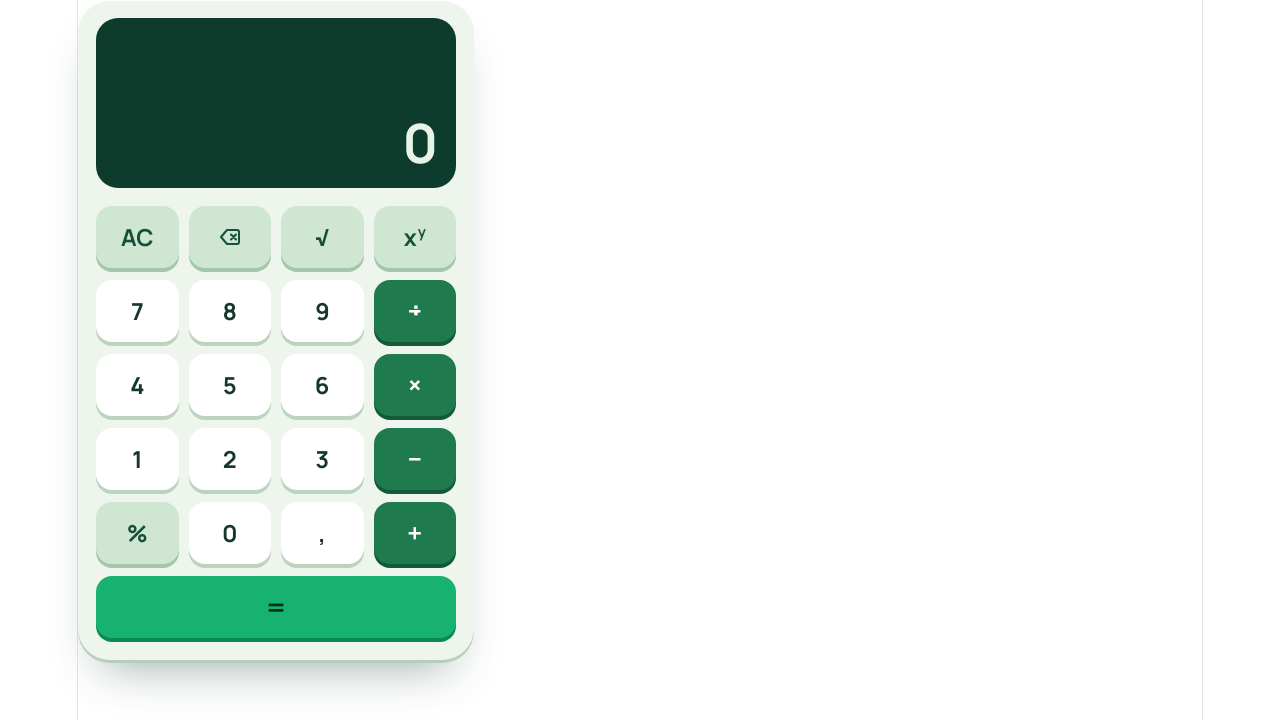
Test: <Calculator /> › pide el resultado al servicio y lo muestra
Click the button "2" at (230, 459), box x1=188 y1=428 x2=271 y2=490
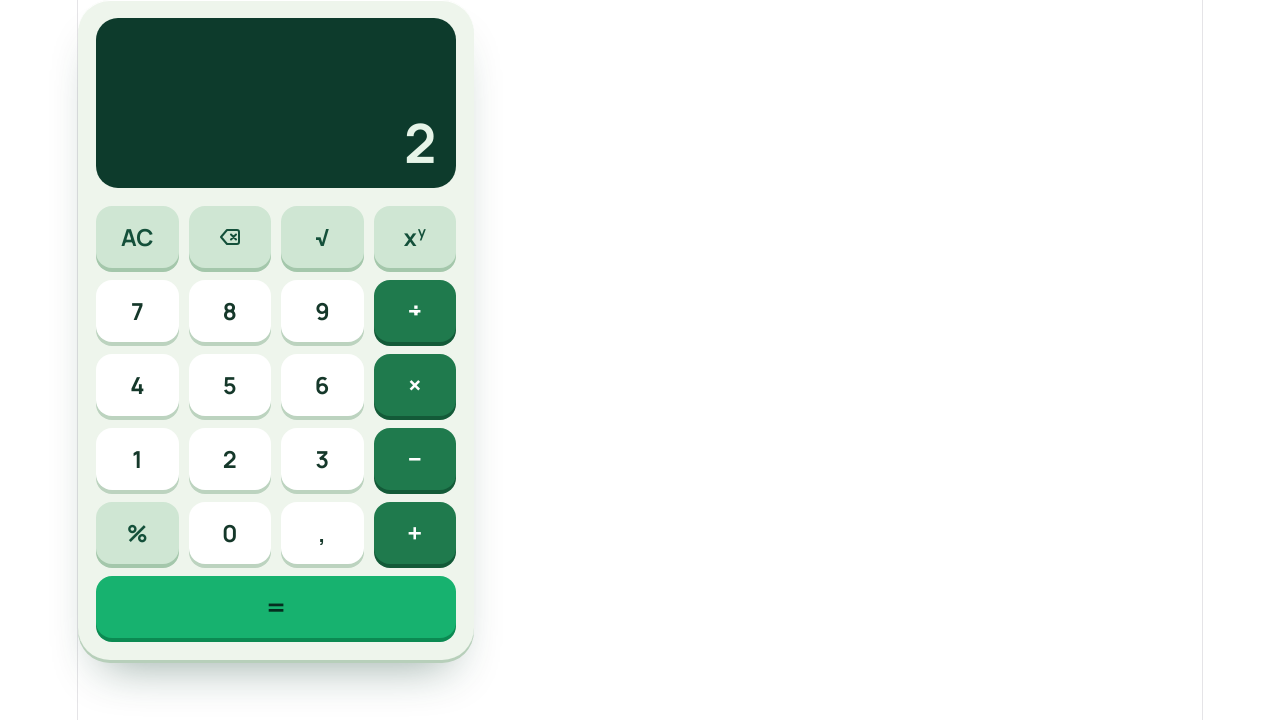
Click the button named "Sumar" at (415, 533), box x1=374 y1=502 x2=456 y2=564
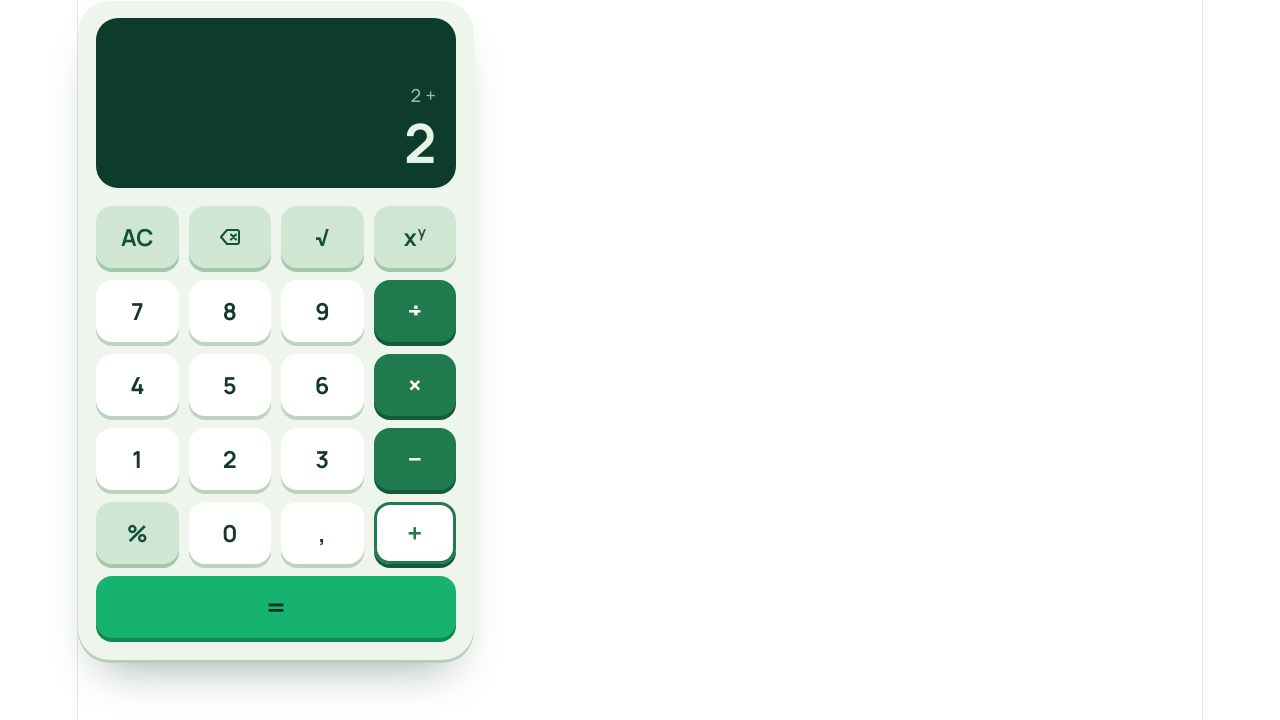
Click the button "3" at (322, 459), box x1=281 y1=428 x2=364 y2=490
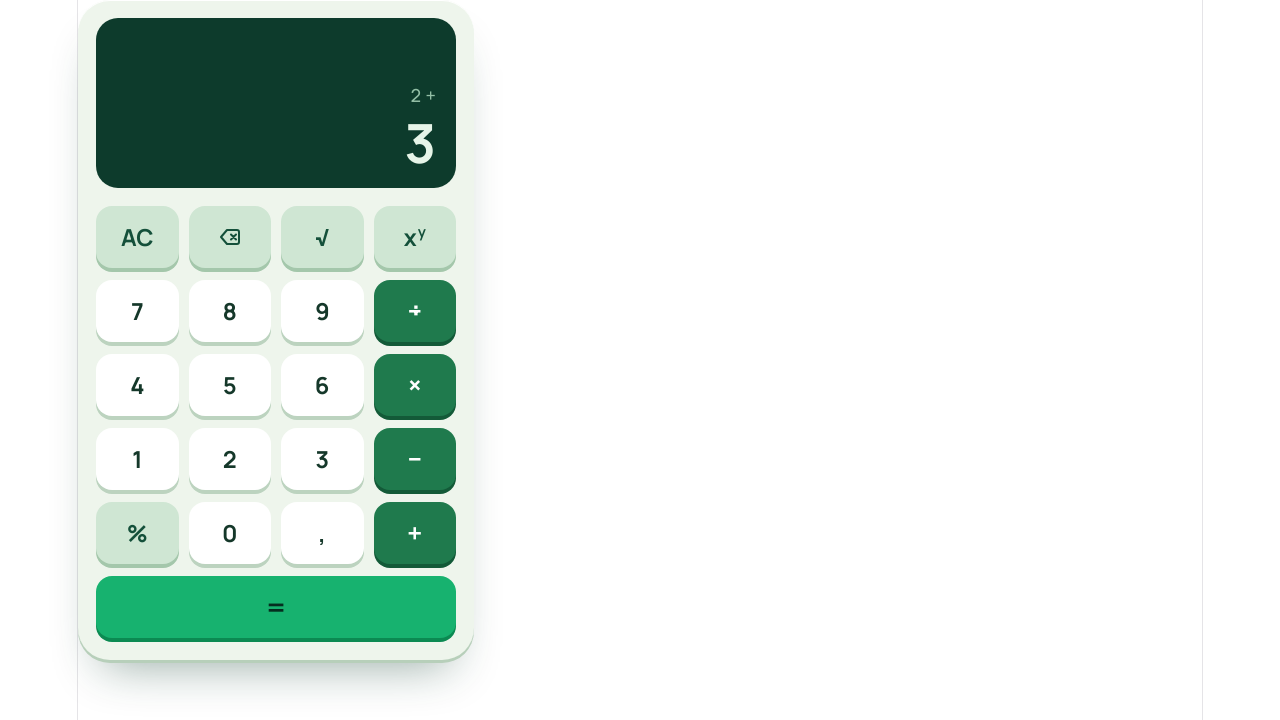
Click the button named "Calcular resultado" at (276, 607), box x1=96 y1=576 x2=456 y2=638
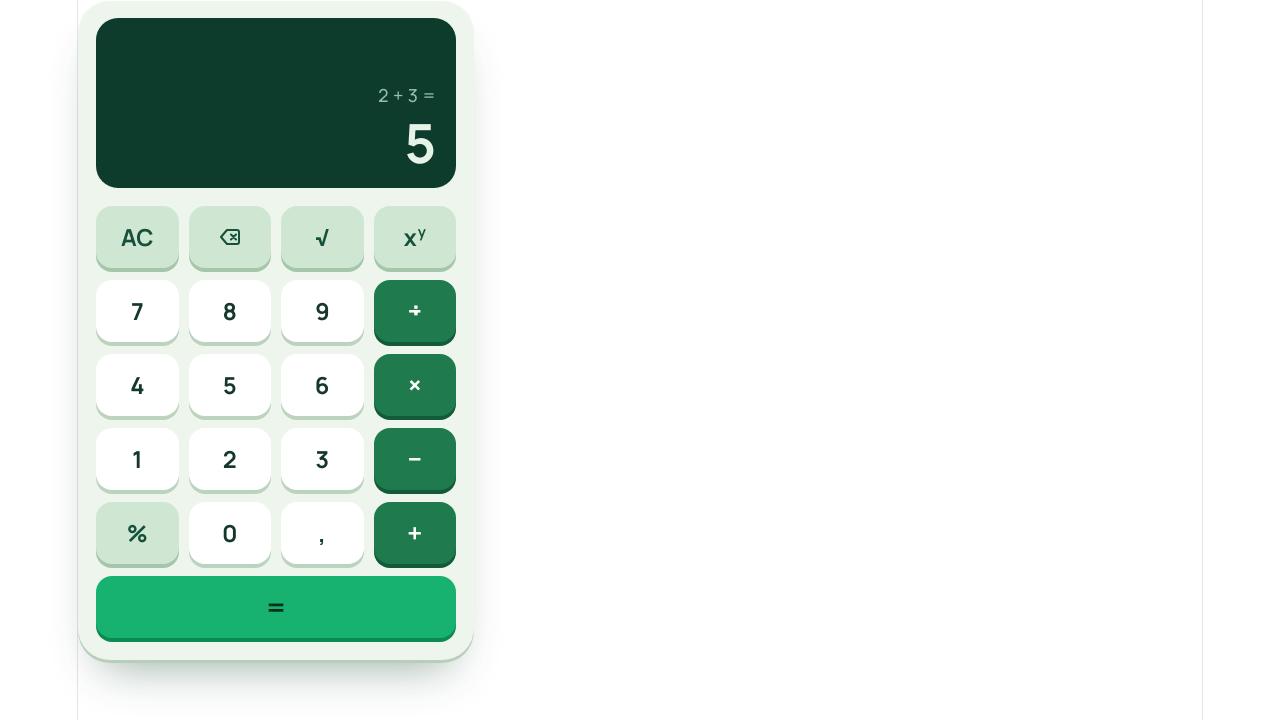
Check: the message reads "2 + 3 = 5", box x1=96 y1=18 x2=456 y2=188
